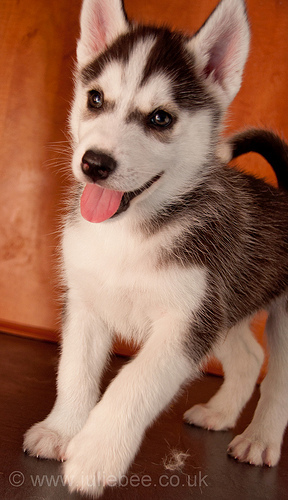dog: (23, 0, 286, 497)
